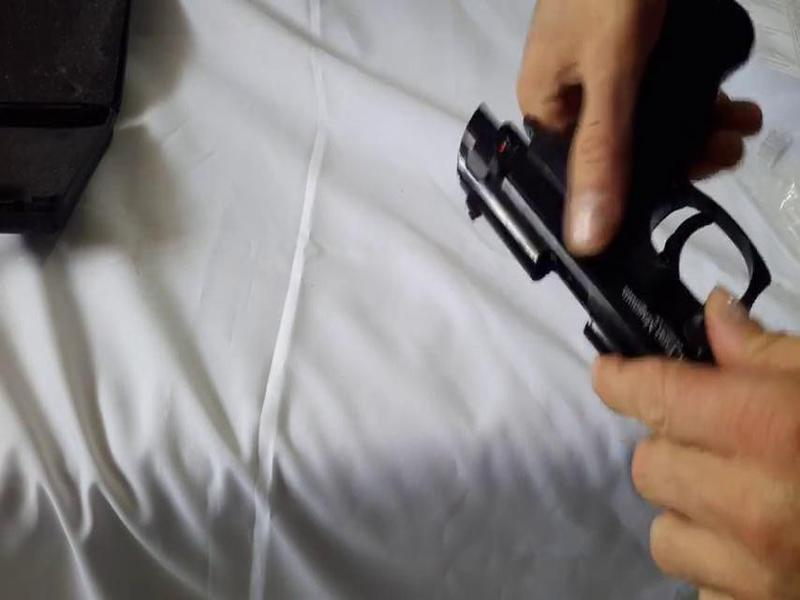Pistola: (445, 1, 769, 497)
